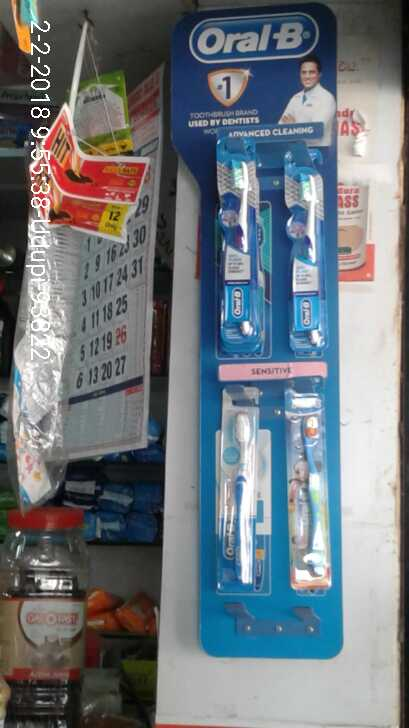oralb: (274, 384, 338, 588), (213, 389, 270, 584), (285, 152, 341, 350), (222, 152, 271, 361)
